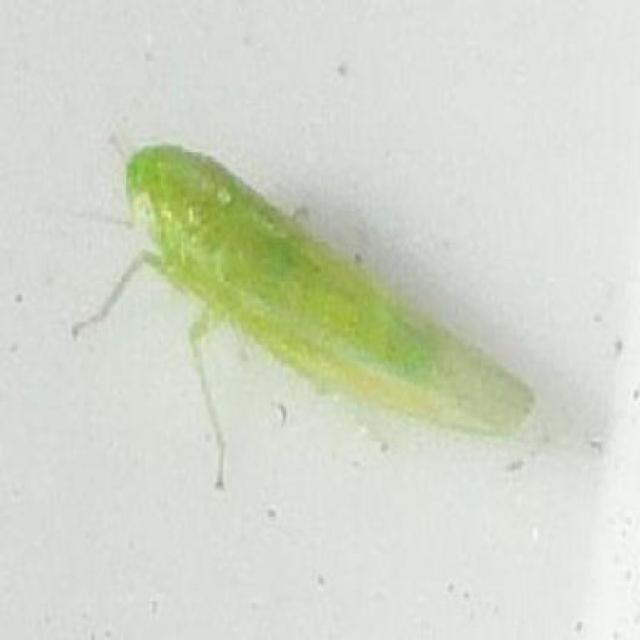green-leafhopper: (68, 144, 534, 492)
